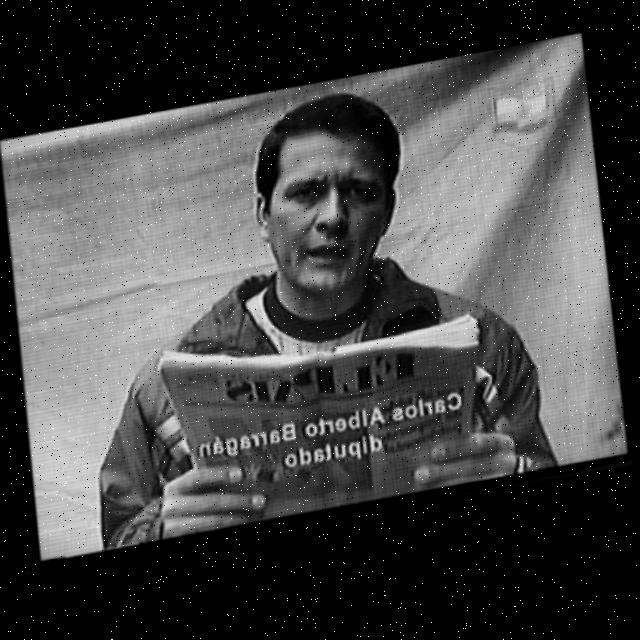face: (246, 117, 402, 319)
